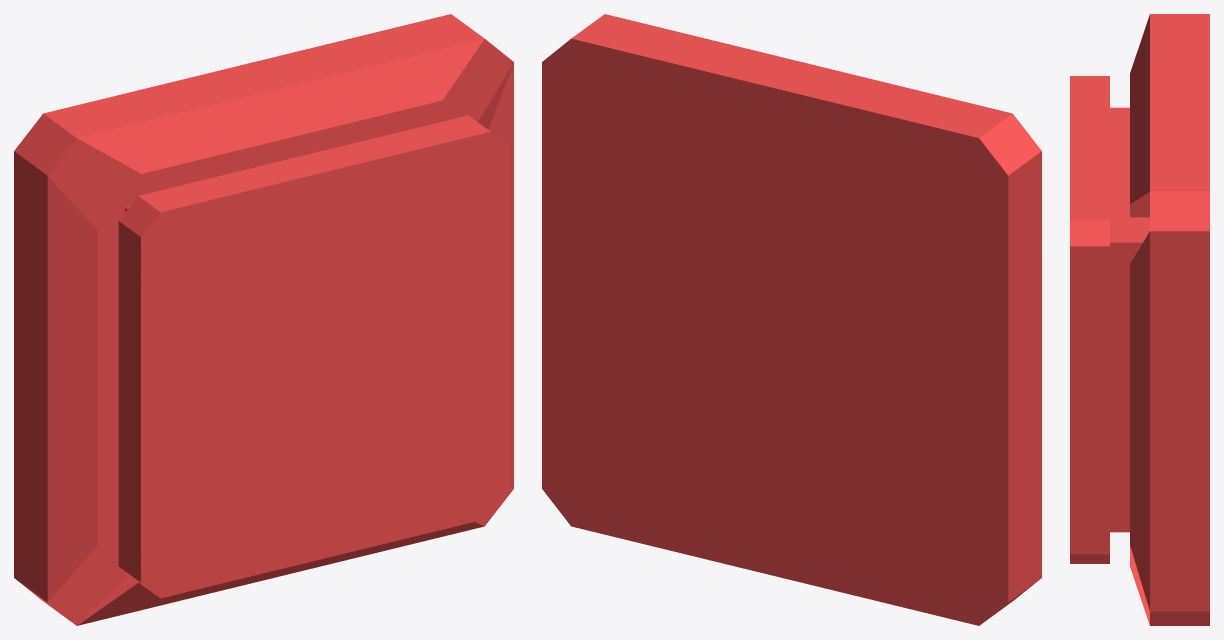
The model's file is Button_v8.fbx.
The picture shows the model from 3 angles, left to right: view 1: azimuth 30°, elevation 25°; view 2: azimuth 150°, elevation 25°; view 3: azimuth 270°, elevation 25°; orthographic projection. The views are drawn at different scales.
Visible parts, largest first — view 1: Body1; view 2: Body1; view 3: Body1.
Boxes of the visible parts, x1,y1,x2,y2 form: Body1: (14,14,513,625); Body1: (542,14,1041,625); Body1: (1070,14,1209,625).
Bounding box in the file's own units: 18 × 18 × 5.25.
